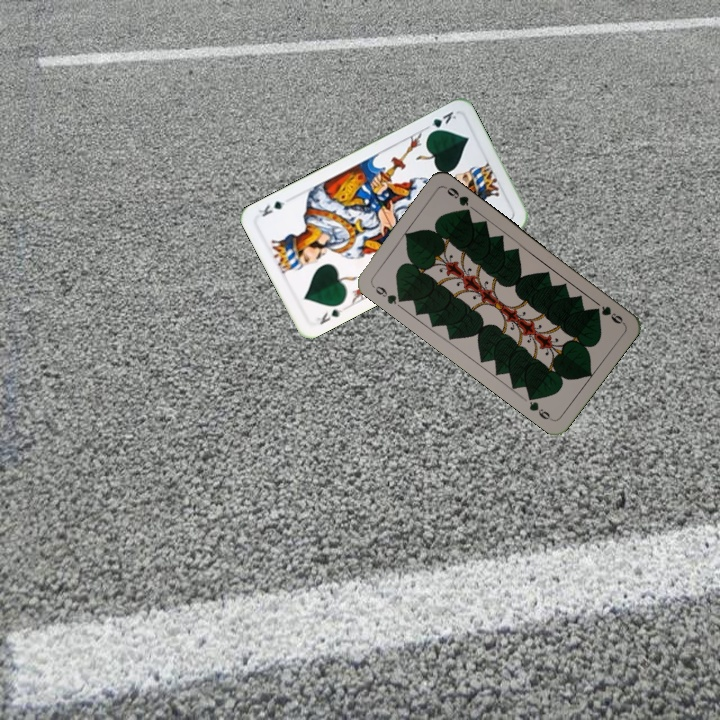G9: (368, 281, 407, 307), (597, 301, 627, 327)
GK: (421, 107, 459, 137), (312, 304, 345, 327)
